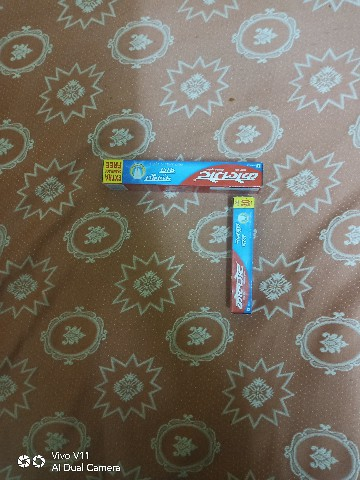colgatetoothpaste big: (91, 150, 272, 193)
colgatetoothpaste small: (221, 191, 272, 321)
